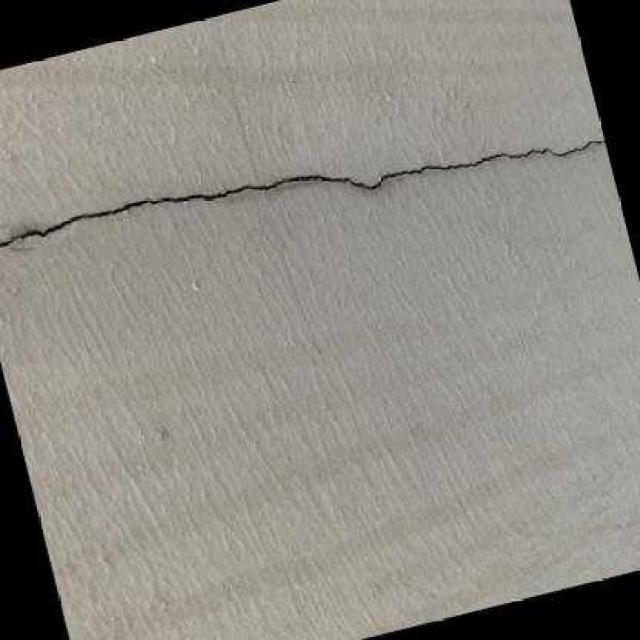D00: (0, 138, 606, 250)
